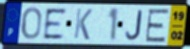1: (107, 7, 119, 43)
E: (144, 8, 171, 43), (43, 8, 68, 41)
J: (125, 9, 143, 41)
K: (72, 7, 94, 41)
O: (21, 6, 43, 41)
